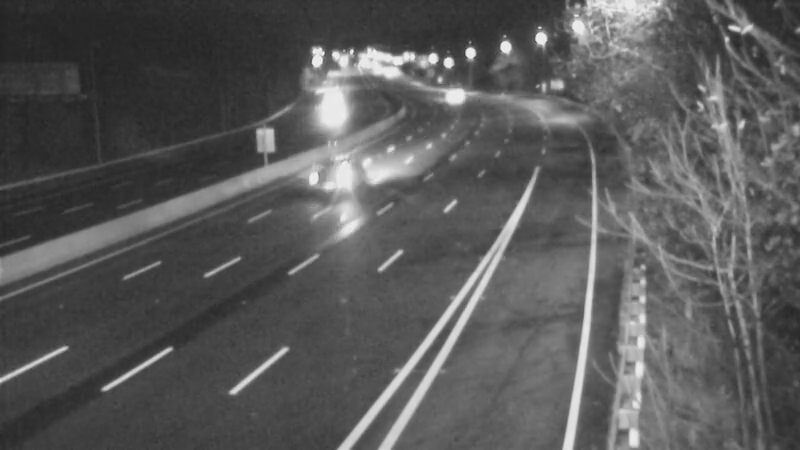vehicle: (309, 137, 389, 217), (427, 73, 477, 123), (301, 81, 351, 131)
